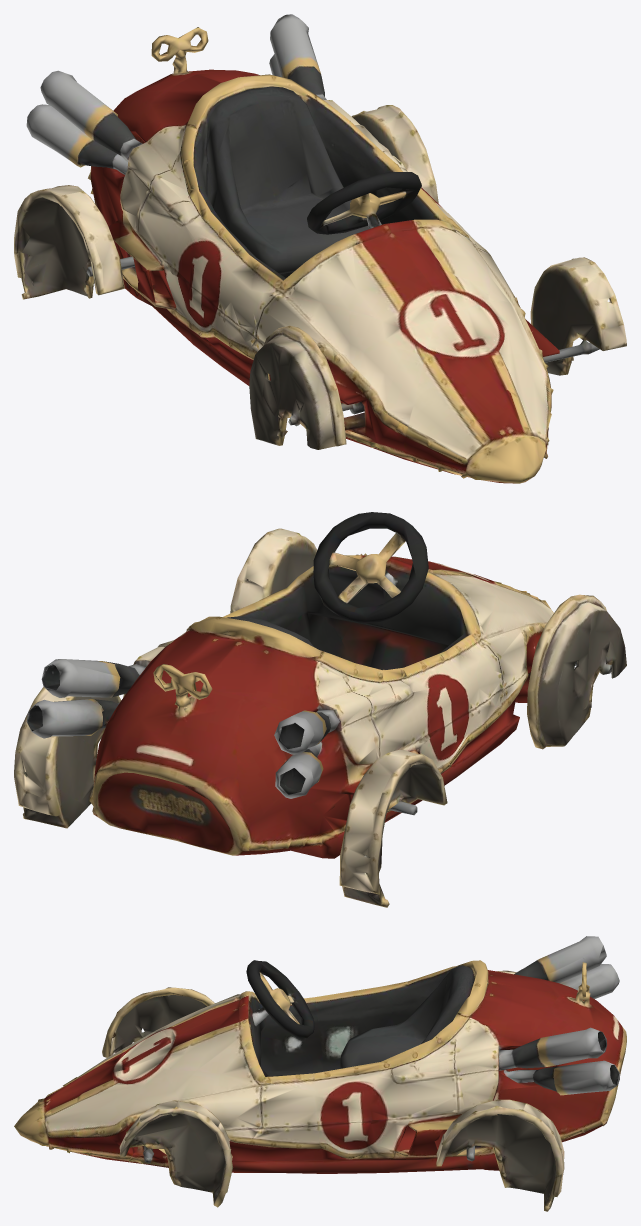
Rendered from body.glb.
The picture shows the model from 3 angles, top to bottom: view 1: azimuth 30°, elevation 25°; view 2: azimuth 150°, elevation 25°; view 3: azimuth 270°, elevation 25°; orthographic projection. The views are drawn at different scales.
Parts seen in each view (by area): view 1: tripo_node_2e597986-941c-4d73-86e5-c5201e3f44c6; view 2: tripo_node_2e597986-941c-4d73-86e5-c5201e3f44c6; view 3: tripo_node_2e597986-941c-4d73-86e5-c5201e3f44c6.
Part boxes in pixels (x1,y1,x2,y2): tripo_node_2e597986-941c-4d73-86e5-c5201e3f44c6: (14, 14, 626, 483); tripo_node_2e597986-941c-4d73-86e5-c5201e3f44c6: (14, 512, 626, 907); tripo_node_2e597986-941c-4d73-86e5-c5201e3f44c6: (14, 936, 626, 1211).
Bounding box in the file's own units: 0.5534 × 0.3142 × 0.9994.
Materials: 1 (1 with a texture image).
